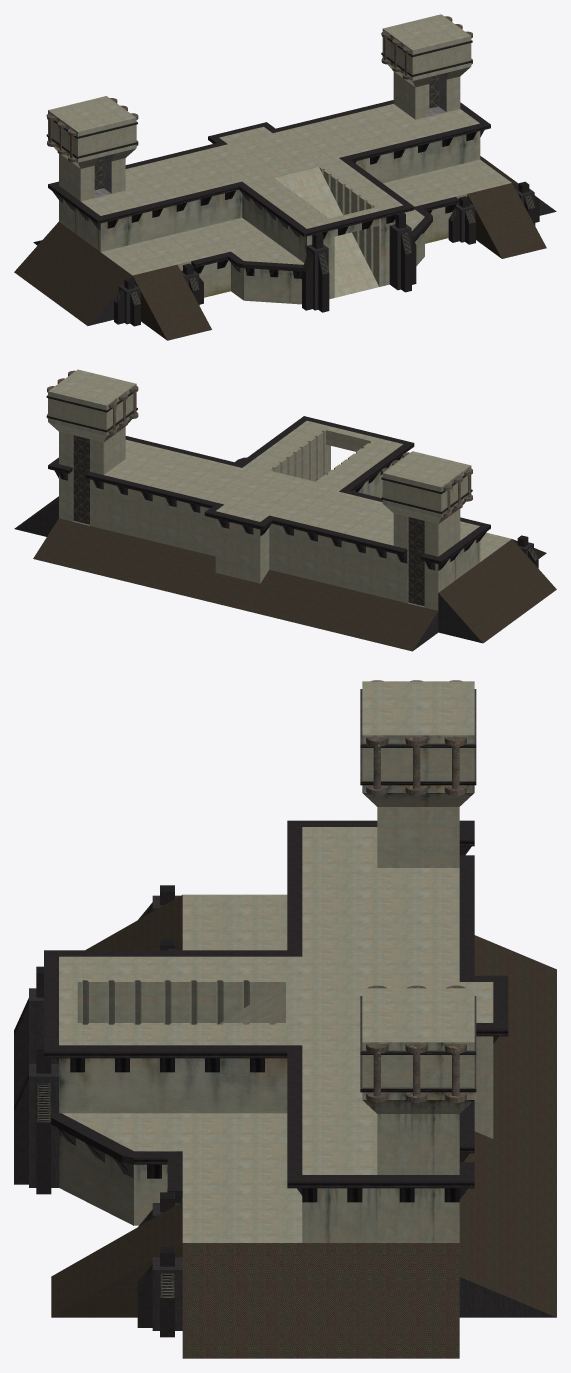
The model's file is cementspawn.fbx.
The picture shows the model from 3 angles, top to bottom: view 1: azimuth 30°, elevation 25°; view 2: azimuth 150°, elevation 25°; view 3: azimuth 270°, elevation 25°; orthographic projection. The views are drawn at different scales.
Parts seen in each view (by area): view 1: Object; view 2: Object; view 3: Object.
Part boxes in pixels (left/top/right/bottom): Object: left=14, top=14, right=556, bottom=340; Object: left=14, top=369, right=556, bottom=651; Object: left=14, top=680, right=556, bottom=1358.
Size of the model in its own units: 27200 by 8300 by 14500.
